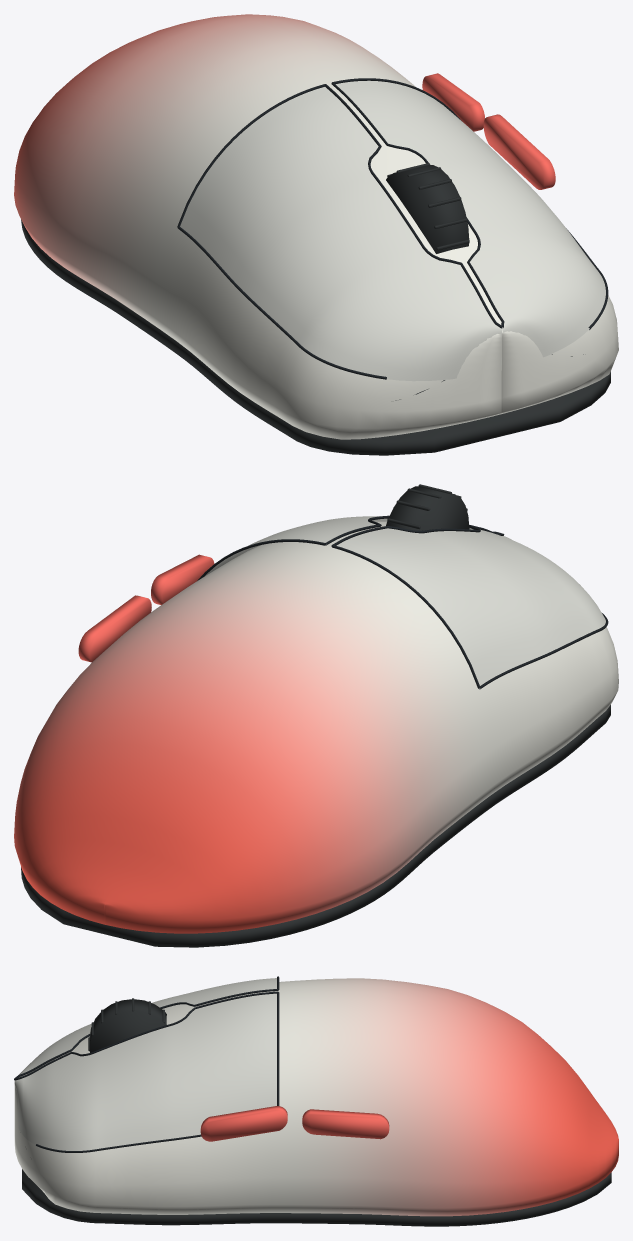
Rendered from lod1_source.glb.
3 views of the same model, one above another, from view 1: azimuth 30°, elevation 25°; view 2: azimuth 150°, elevation 25°; view 3: azimuth 270°, elevation 25° (orthographic). The views are drawn at different scales.
Visible parts, largest first — view 1: Mouse body GPX continuous rounded back, Left click panel, Right click panel, Thin inset black base, Scroll wheel, Curved capsule left side button, Curved capsule left side button.001, Left click center seam, Left click outer seam, Right click center seam, Left click rear seam; view 2: Mouse body GPX continuous rounded back, Left click panel, Thin inset black base, Scroll wheel, Curved capsule left side button.001, Right click panel, Curved capsule left side button, Left click rear seam; view 3: Mouse body GPX continuous rounded back, Right click panel, Thin inset black base, Scroll wheel, Left click panel, Curved capsule left side button.001, Curved capsule left side button, Right click center seam, Left click center seam, Right click outer seam.
Part boxes in pixels (x1,y1,x2,y2): Mouse body GPX continuous rounded back: (14, 14, 618, 439); Left click panel: (180, 87, 502, 381); Right click panel: (335, 80, 605, 357); Thin inset black base: (21, 219, 610, 455); Scroll wheel: (386, 165, 469, 253); Curved capsule left side button: (483, 114, 555, 189); Curved capsule left side button.001: (422, 73, 484, 131); Left click center seam: (325, 84, 502, 328); Left click outer seam: (177, 226, 386, 379); Right click center seam: (331, 82, 504, 328); Left click rear seam: (177, 84, 325, 226); Mouse body GPX continuous rounded back: (14, 521, 618, 933); Left click panel: (336, 528, 605, 688); Thin inset black base: (21, 704, 610, 947); Scroll wheel: (386, 486, 469, 530); Curved capsule left side button.001: (78, 595, 151, 662); Right click panel: (205, 516, 473, 575); Curved capsule left side button: (151, 554, 214, 604); Left click rear seam: (332, 545, 480, 688); Mouse body GPX continuous rounded back: (14, 978, 618, 1216); Right click panel: (14, 993, 276, 1150); Thin inset black base: (22, 1169, 611, 1226); Scroll wheel: (89, 999, 166, 1052); Left click panel: (19, 978, 276, 1077); Curved capsule left side button.001: (302, 1109, 389, 1139); Curved capsule left side button: (200, 1106, 287, 1141); Right click center seam: (14, 991, 277, 1080); Left click center seam: (14, 989, 278, 1078); Right click outer seam: (36, 1134, 201, 1152).
Bounding box in the file's own units: 0.0635 × 0.04 × 0.125.
